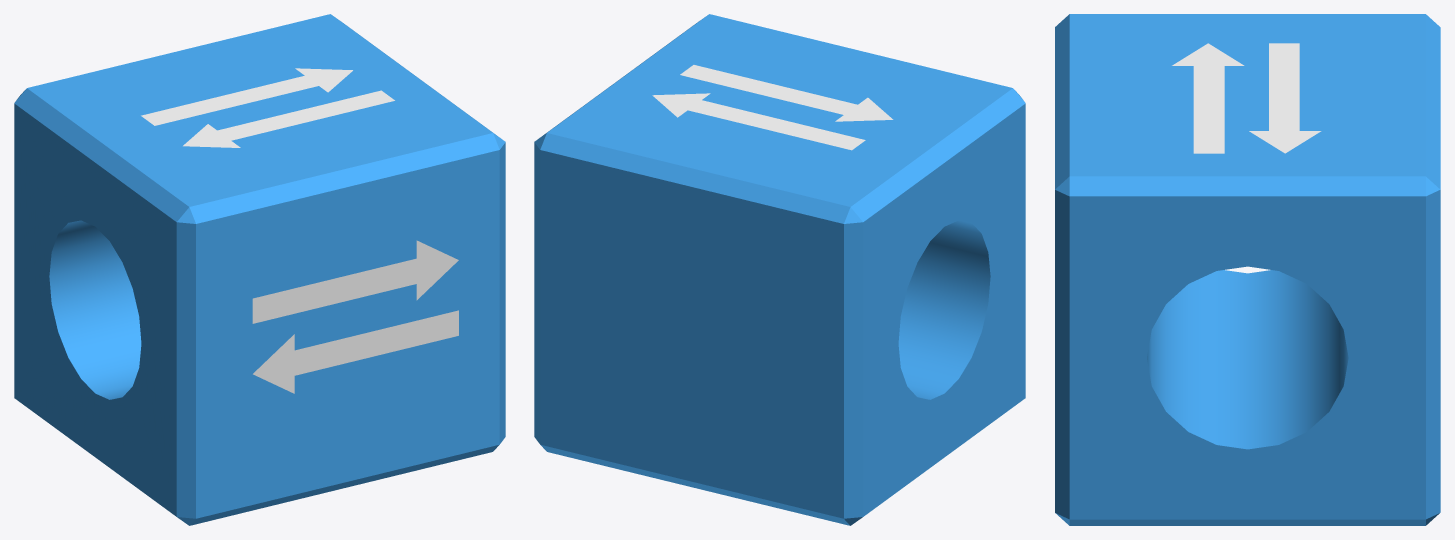
The model's file is Security.obj.
3 renders of one model, left to right at view 1: azimuth 30°, elevation 25°; view 2: azimuth 150°, elevation 25°; view 3: azimuth 270°, elevation 25°, orthographic. The views are drawn at different scales.
Parts seen in each view (by area): view 1: Security1; view 2: Security1; view 3: Security1.
Part boxes in pixels (x1,y1,x2,y2): Security1: (14, 14, 505, 525); Security1: (534, 14, 1025, 525); Security1: (1055, 14, 1440, 525).
Size of the model in its own units: 0.9138 by 0.8482 by 0.8468.
